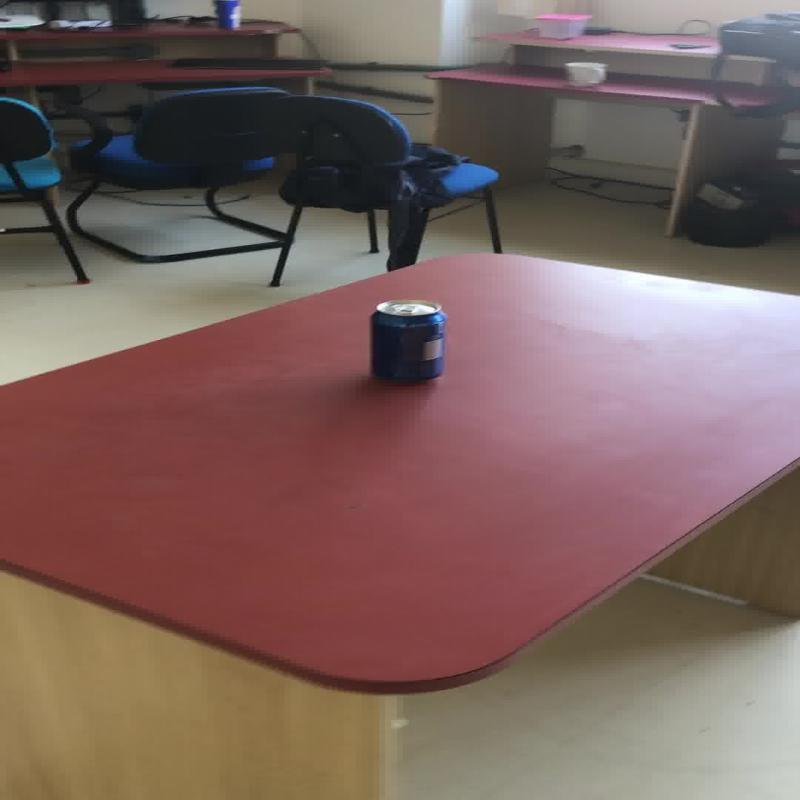tonic: (367, 298, 447, 382), (213, 0, 242, 30)
